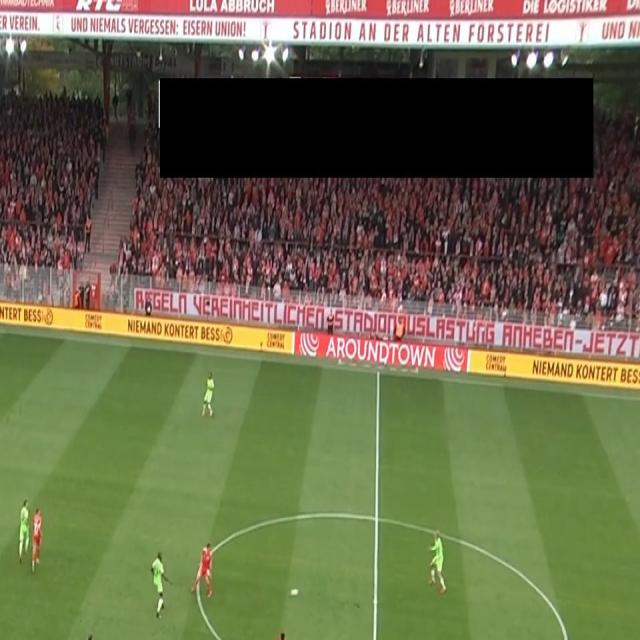ball: (288, 586, 300, 600)
